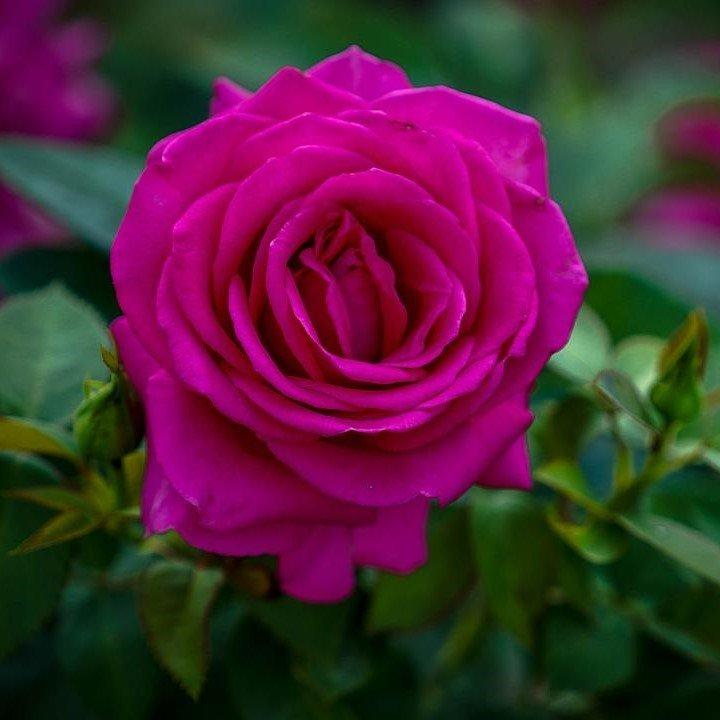Rose: (79, 65, 602, 604)
